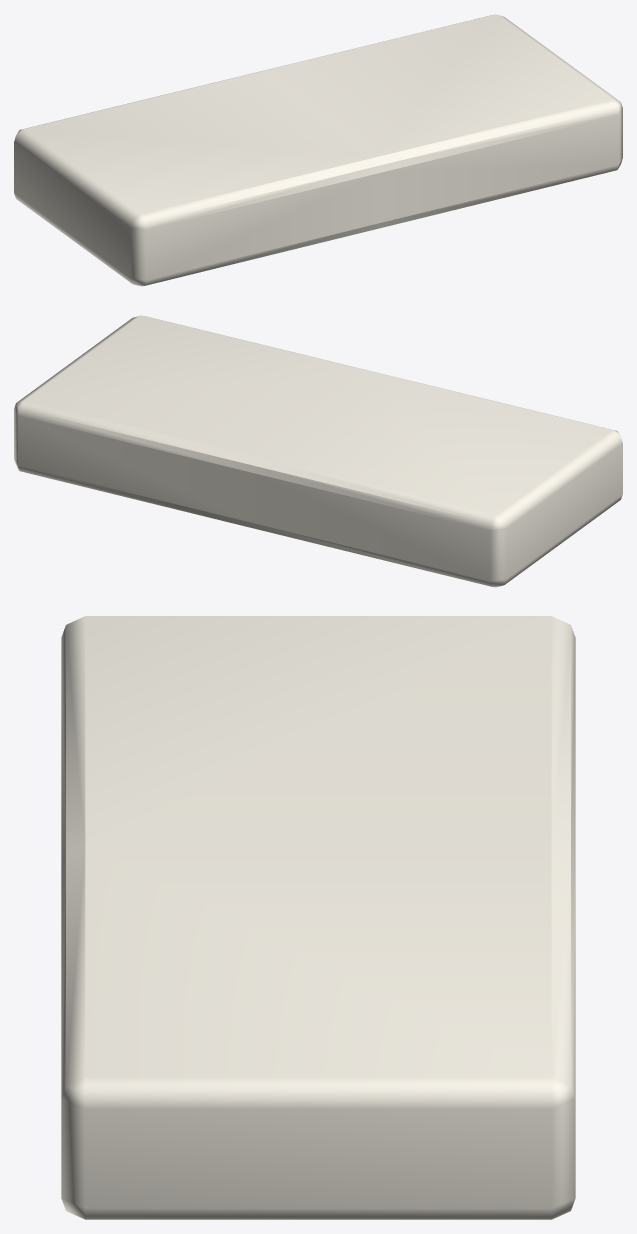
The picture shows the model from 3 angles, top to bottom: view 1: azimuth 30°, elevation 25°; view 2: azimuth 150°, elevation 25°; view 3: azimuth 270°, elevation 25°; orthographic projection. The views are drawn at different scales.
Visible parts, largest first — view 1: domino:domino:domino:domino:polySurface23; view 2: domino:domino:domino:domino:polySurface23; view 3: domino:domino:domino:domino:polySurface23.
Boxes of the visible parts, x1,y1,x2,y2 form: domino:domino:domino:domino:polySurface23: (14, 14, 622, 286); domino:domino:domino:domino:polySurface23: (14, 315, 622, 587); domino:domino:domino:domino:polySurface23: (61, 616, 575, 1219).
Bounding box in the file's own units: 3.28 × 0.4593 × 1.48.
1 material, 1 textured.
